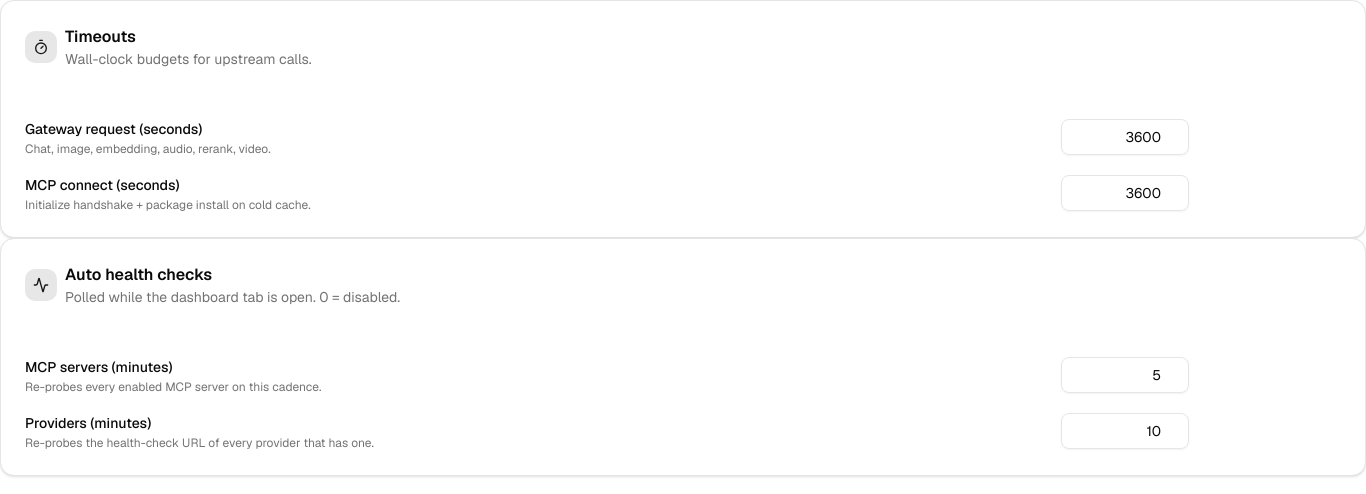
it: TimeoutsSection › rejects a negative auto-check interval and reverts with a toast
The image size is (1366, 494).
Replace the text in the number field showing "5" in the row of "MCP servers (minutes)" with "-1" at coordinates (1125, 375), box [1061,357,1189,393]
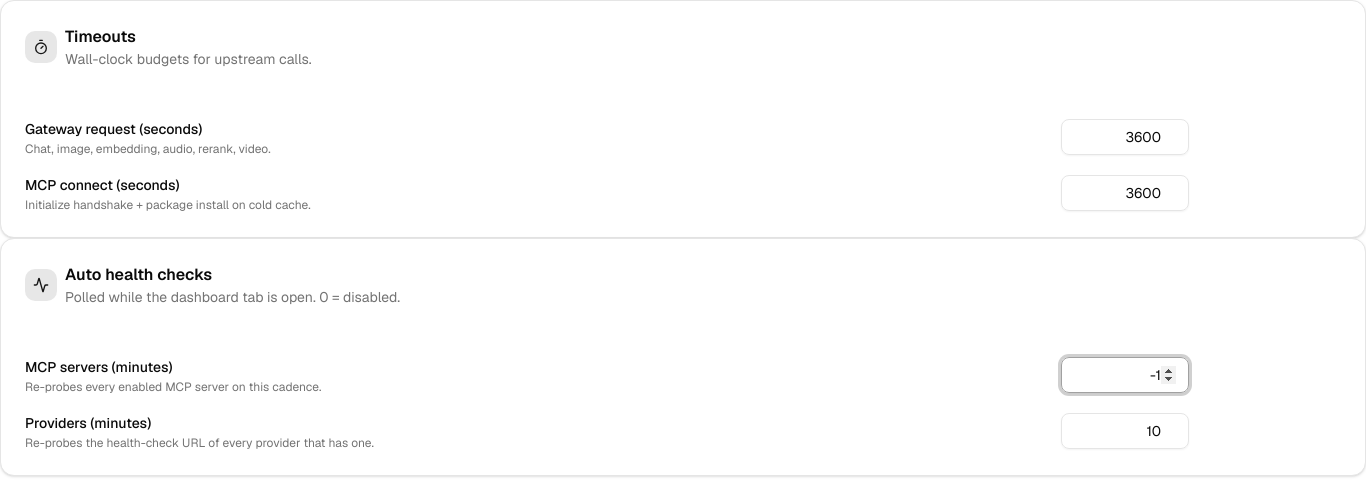
Press Tab
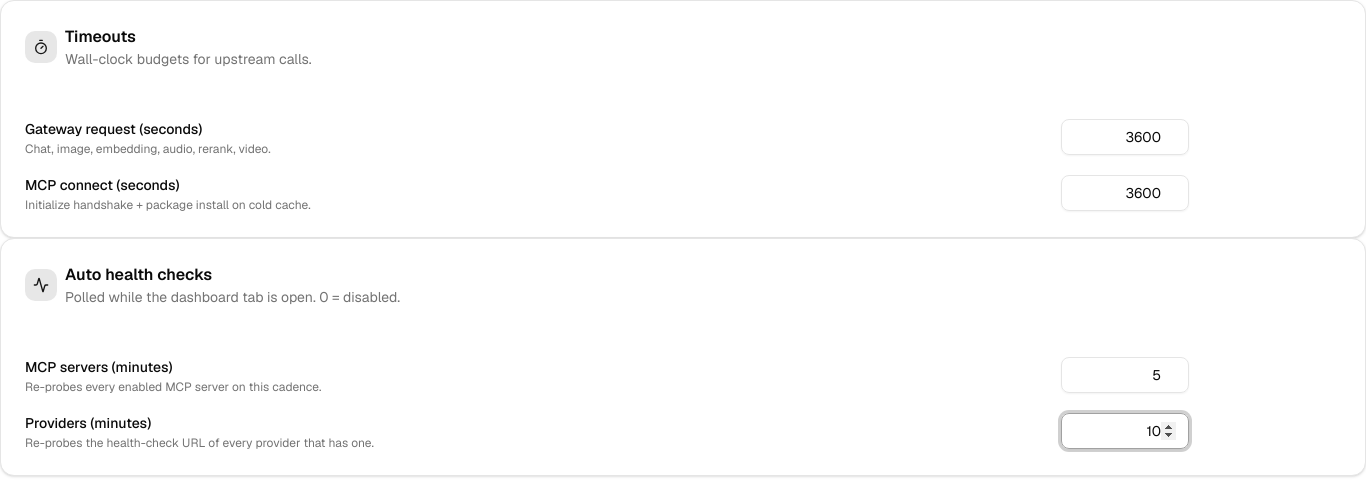
Expected: the number field showing "5" in the row of "MCP servers (minutes)" holds "5", [1061,357,1189,393]
